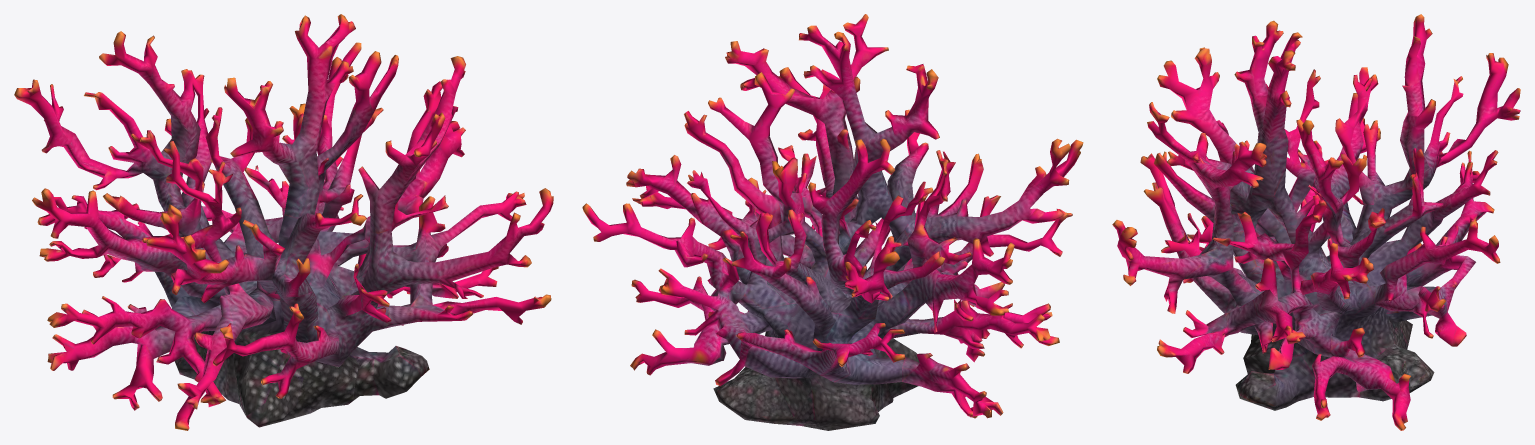
Rendered from BranchCoral.glb.
3 views of the same model, side by side, from view 1: azimuth 30°, elevation 25°; view 2: azimuth 150°, elevation 25°; view 3: azimuth 270°, elevation 25° (orthographic). The views are drawn at different scales.
Bounding box in the file's own units: 0.9561 × 0.7539 × 0.8087.
1 material, 1 textured.
